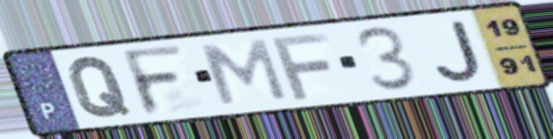3: (355, 24, 419, 93)
F: (118, 42, 188, 118), (267, 30, 333, 102)
J: (432, 17, 486, 84)
M: (197, 37, 292, 107)
Q: (65, 54, 135, 120)
